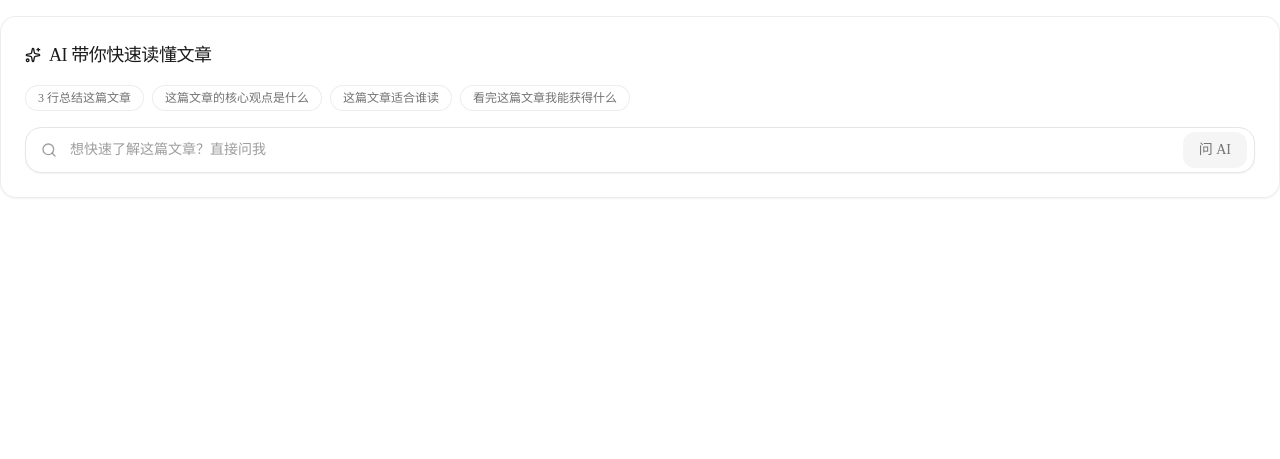
Test: PageAIAssistantProvider › 流式回答会逐步追加，并在 references 事件后展示依据
Type "3 行总结这篇文章" into the field with placeholder "想快速了解这篇文章？直接问我".
click(640, 150); type("3 行总结这篇文章")  # box [25,127,1255,173]
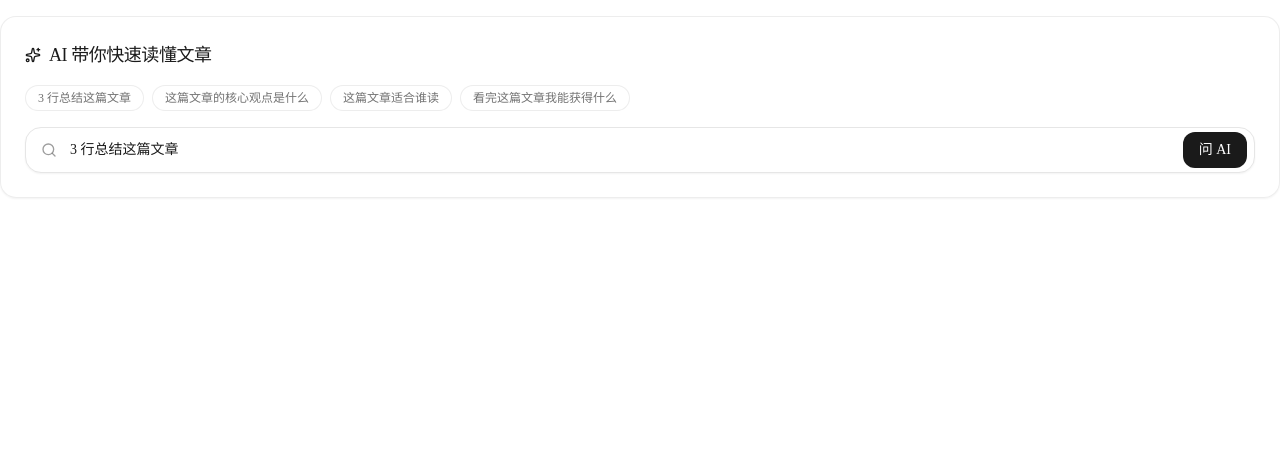
Click the button "问 AI".
click(1215, 150)  # box [1183,132,1247,168]
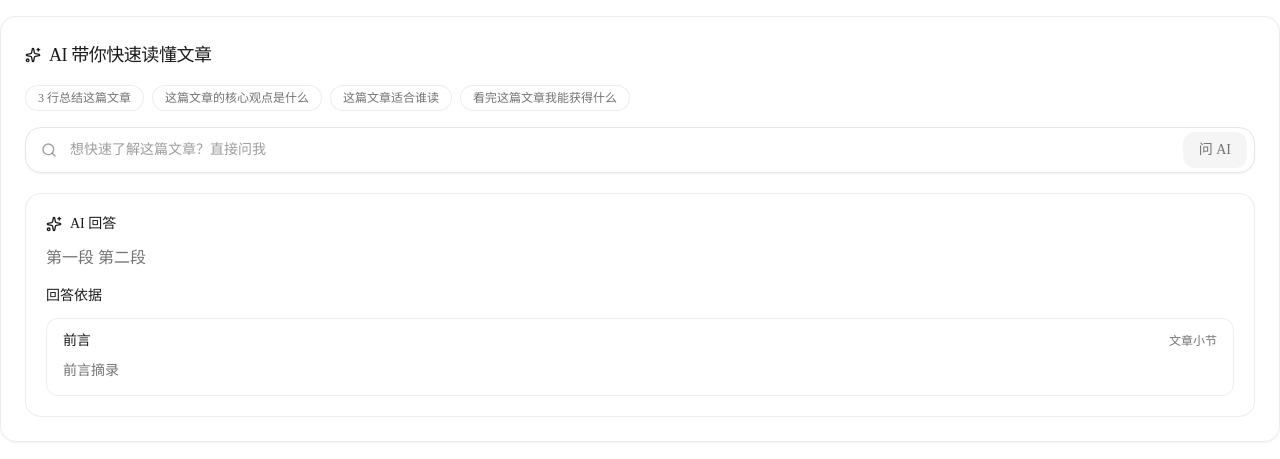
Check: the text "第一段 第二段" is shown, box [46,249,146,266]
Check: the text "回答依据" is shown, box [46,288,102,303]
Check: the heading "前言" is shown, box [63,331,90,351]
